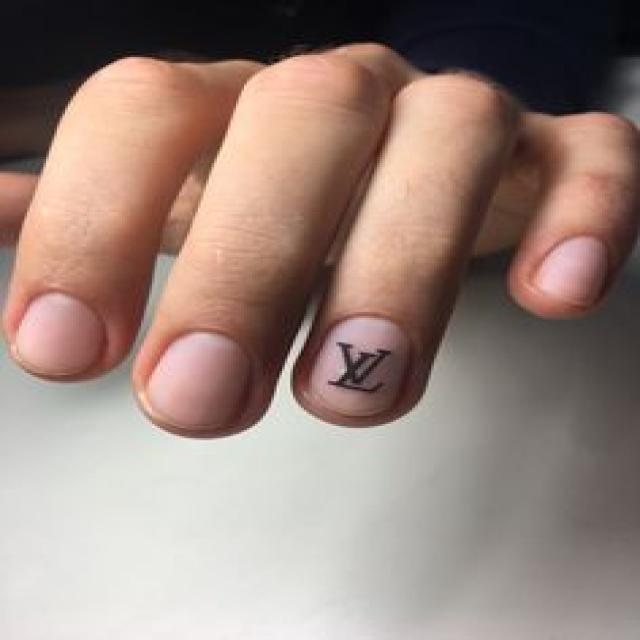Fingernail: (311, 316, 412, 417), (147, 332, 253, 427), (16, 292, 105, 375), (531, 235, 609, 308)
